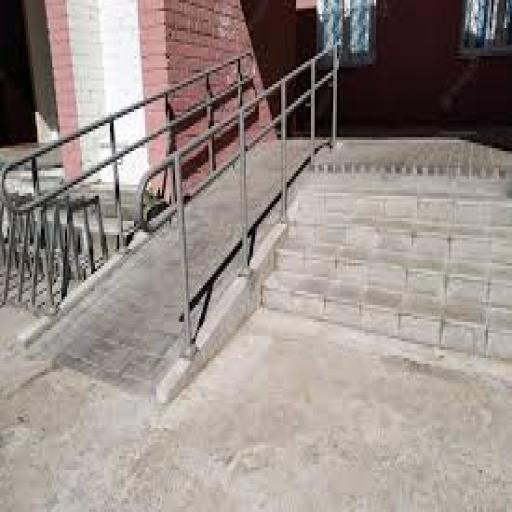ramp: (29, 148, 321, 408)
stairs: (260, 167, 512, 394)
